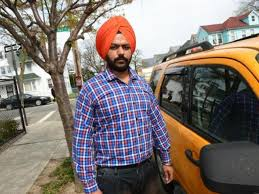helmet: (93, 15, 138, 69)
